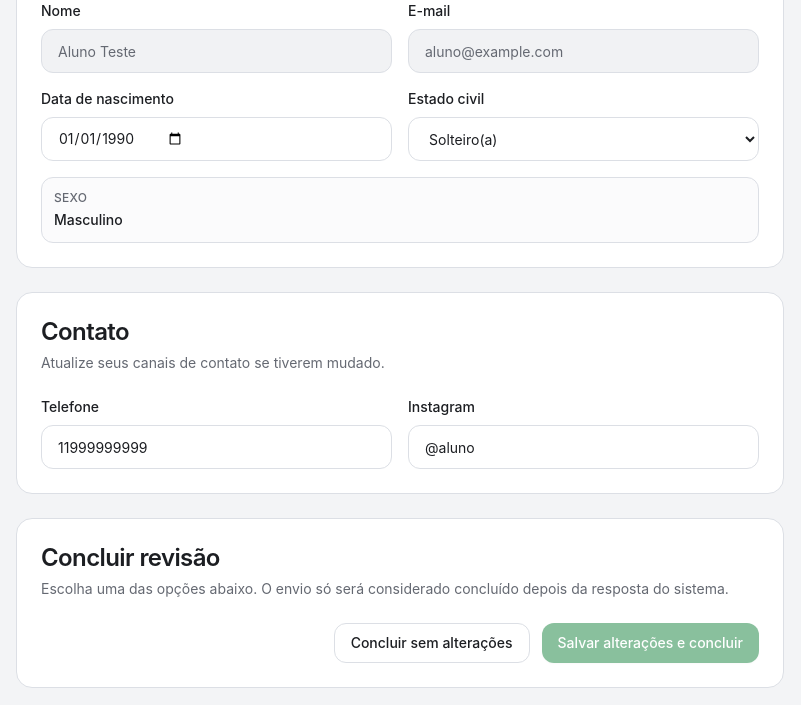
StudentProfileReview › envia apenas a alteração feita e mostra sucesso direto conforme resposta da API
(page scrolled)
Replace the text in the field labelled "Telefone" with "11988887777" at (216, 447), box [41, 425, 392, 469]
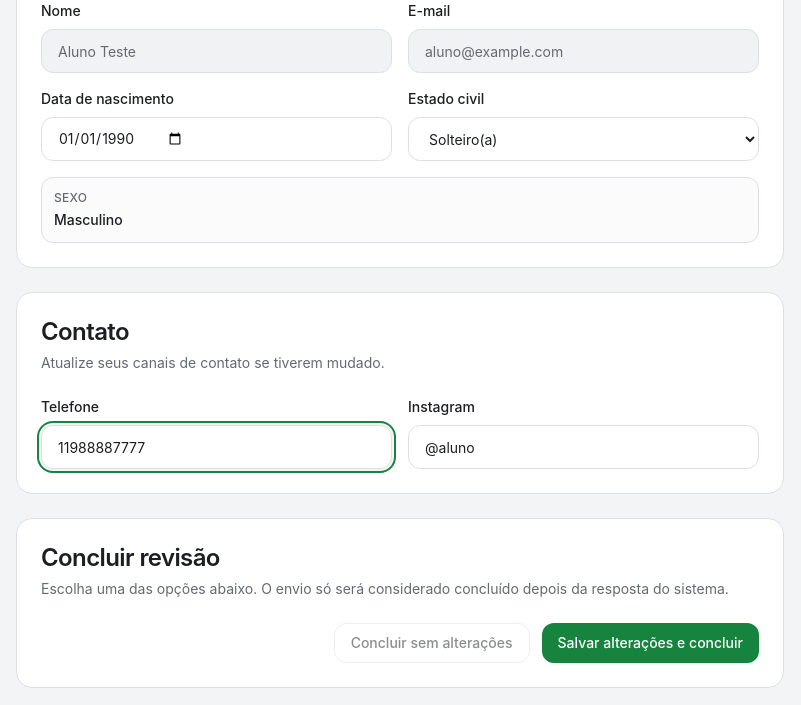
Click the button "Salvar alterações e concluir" at (650, 643), box [542, 623, 759, 663]
(page scrolled)
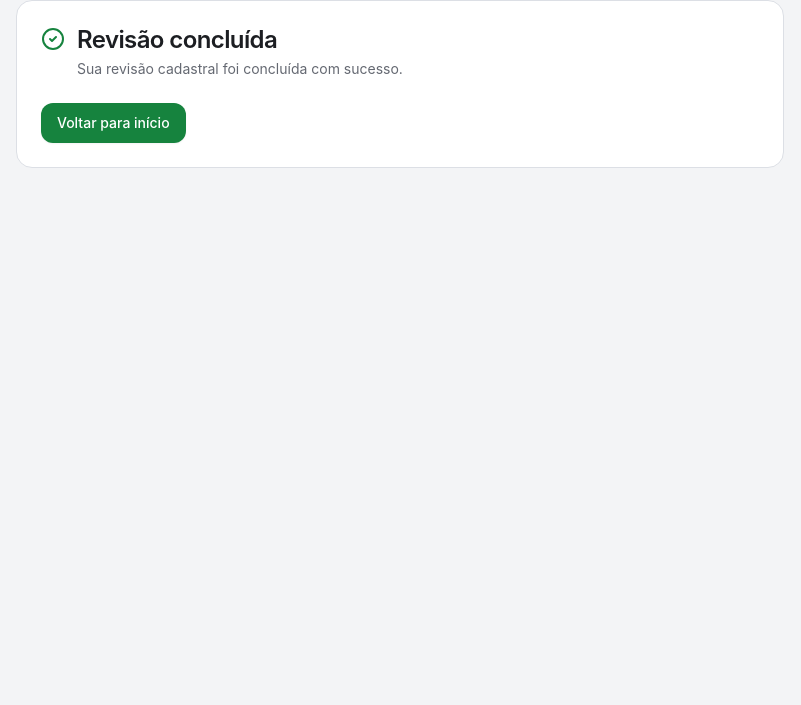
Expected: the text "Sua revisão cadastral foi concluída com sucesso." is shown, [77, 59, 403, 79]
